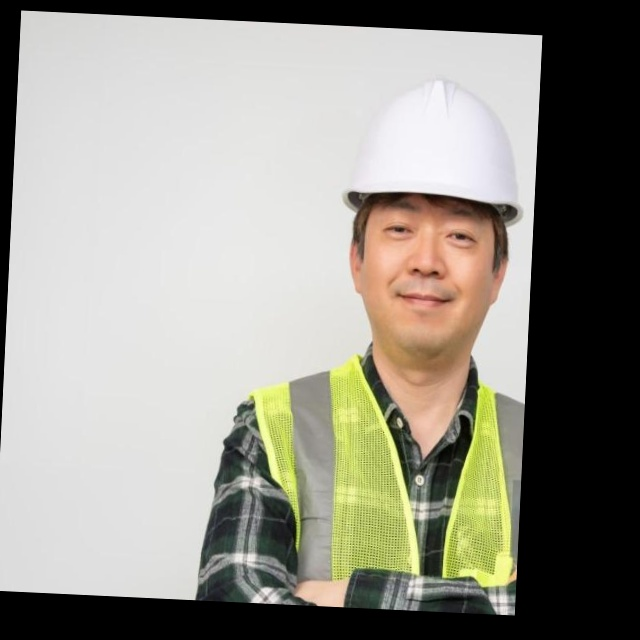Con_Casco: (326, 74, 535, 367)
Con_Chaleco: (226, 360, 526, 616)
